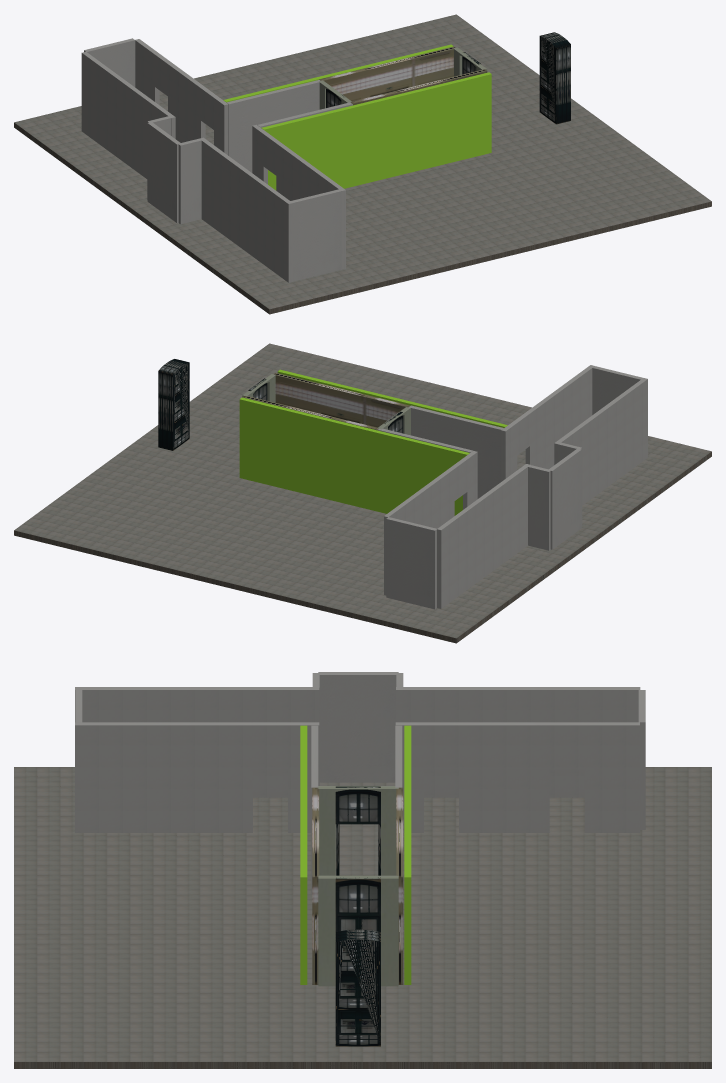
File: building.gltf
3 renders of one model, top to bottom at view 1: azimuth 30°, elevation 25°; view 2: azimuth 150°, elevation 25°; view 3: azimuth 270°, elevation 25°, orthographic. The views are drawn at different scales.
Visible parts, largest first — view 1: Box004, Box018, Box007, Box003, Box001, Box008, Box027, Box006, Box017, DoorCutter, Box013, Box011 (+3 smaller); view 2: Box004, Box026, Box003, Box007, Box006, Box002, Box028, Box029, Box001, DoorCutter, Box013, Box012 (+2 smaller); view 3: Box004, Box006, Box001, Box003, Box007, Box013, DoorCutter, Box014, Box016, Door, Box018, Box026 (+5 smaller).
Boxes of the visible parts, x1,y1,x2,y2 form: Box004: (14, 14, 711, 314); Box018: (261, 72, 491, 190); Box007: (199, 137, 292, 282); Box003: (81, 52, 175, 178); Box001: (135, 39, 228, 155); Box008: (290, 189, 341, 281); Box027: (226, 80, 320, 172); Box006: (252, 124, 345, 269); Box017: (319, 46, 455, 101); DoorCutter: (539, 32, 570, 124); Box013: (147, 122, 180, 222); Box011: (178, 138, 202, 224); Box004: (14, 343, 711, 643); Box026: (239, 397, 469, 515); Box003: (437, 464, 530, 608); Box007: (554, 378, 647, 505); Box006: (501, 365, 594, 481); Box002: (386, 517, 436, 609); Box028: (409, 405, 503, 498); Box029: (274, 373, 409, 427); Box001: (384, 451, 477, 595); DoorCutter: (158, 359, 189, 450); Box013: (549, 448, 581, 549); Box012: (527, 465, 551, 550); Box004: (14, 767, 711, 1068); Box006: (75, 722, 319, 832); Box001: (395, 722, 639, 832); Box003: (396, 687, 640, 797); Box007: (75, 687, 319, 797); Box013: (318, 672, 398, 782); DoorCutter: (335, 929, 380, 1046); Box014: (318, 875, 398, 986); Box016: (318, 786, 398, 875); Door: (335, 877, 380, 931); Box018: (300, 725, 307, 984); Box026: (404, 725, 411, 984).
Size of the model in its own units: 20 by 4.55 by 20.
Materials: 12 (5 with a texture image).
